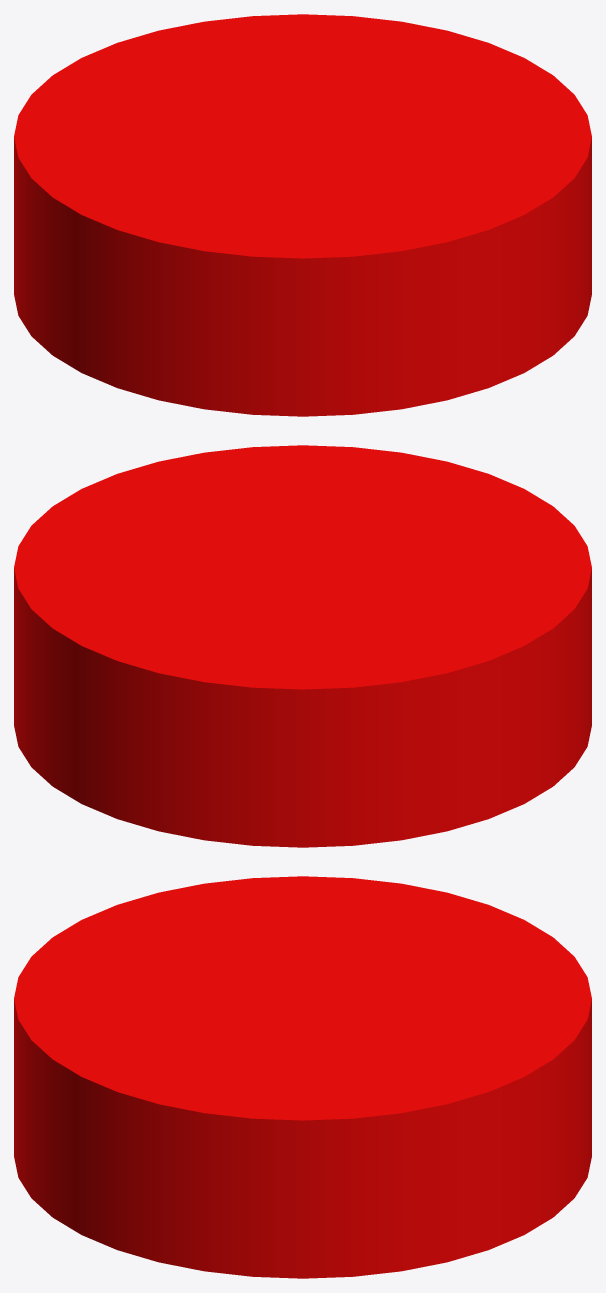
Rendered from COLLISION_WHEEL_8.dae.
The picture shows the model from 3 angles, top to bottom: view 1: azimuth 30°, elevation 25°; view 2: azimuth 150°, elevation 25°; view 3: azimuth 270°, elevation 25°; orthographic projection.
Parts seen in each view (by area): view 1: COLLISION_WHEEL_8; view 2: COLLISION_WHEEL_8; view 3: COLLISION_WHEEL_8.
Part boxes in pixels (<box>): COLLISION_WHEEL_8: <box>14,14,591,416</box>; COLLISION_WHEEL_8: <box>14,445,591,847</box>; COLLISION_WHEEL_8: <box>14,876,591,1278</box>.
Size of the model in its own units: 0.4306 by 0.13 by 0.4306.
